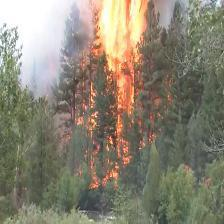fire: (51, 0, 186, 193)
